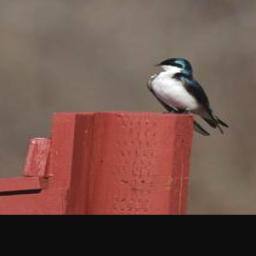Swallow: (146, 56, 229, 135)
